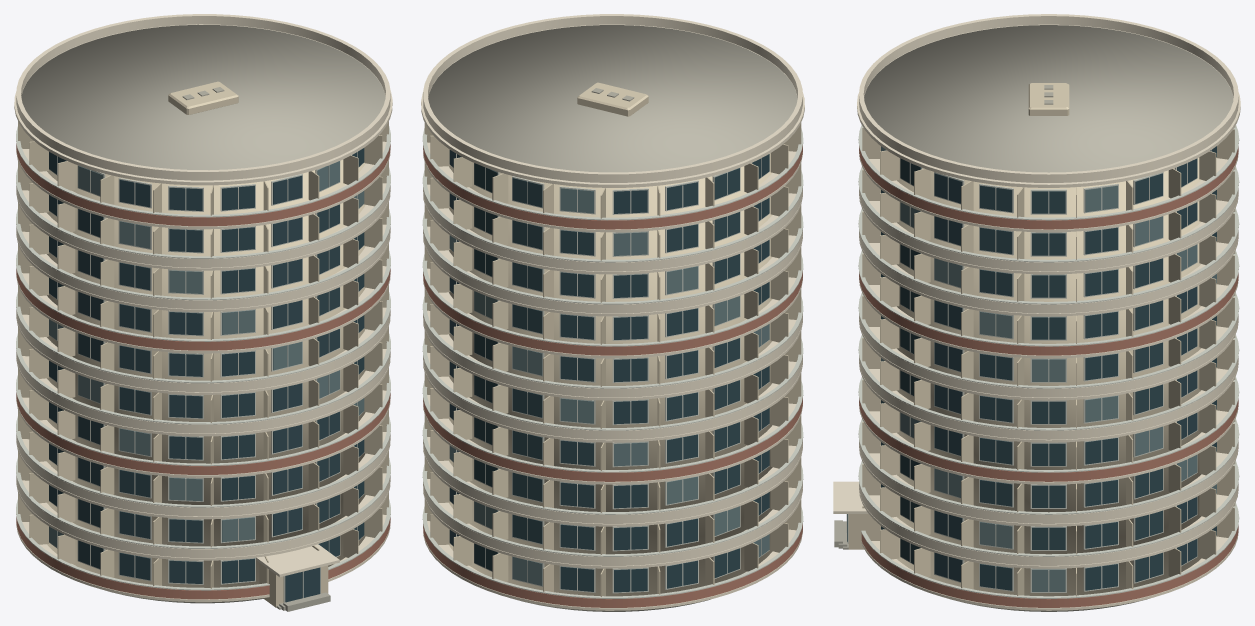
Rendered from apartment-cylinder.glb.
3 views of the same model, side by side, from view 1: azimuth 30°, elevation 25°; view 2: azimuth 150°, elevation 25°; view 3: azimuth 270°, elevation 25° (orthographic).
Visible parts, largest first — view 1: cylinder-shell; view 2: cylinder-shell; view 3: cylinder-shell.
Part boxes in pixels (box(x1,y1,x2,y2)): cylinder-shell: box(14, 14, 392, 611); cylinder-shell: box(421, 14, 804, 611); cylinder-shell: box(833, 14, 1240, 611).
Bounding box in the file's own units: 28.3 × 36 × 30.05.
